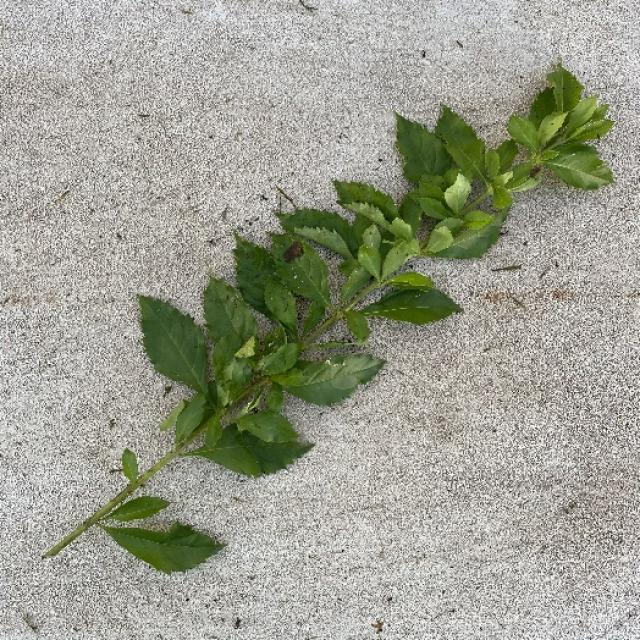organik: (60, 61, 597, 589)
